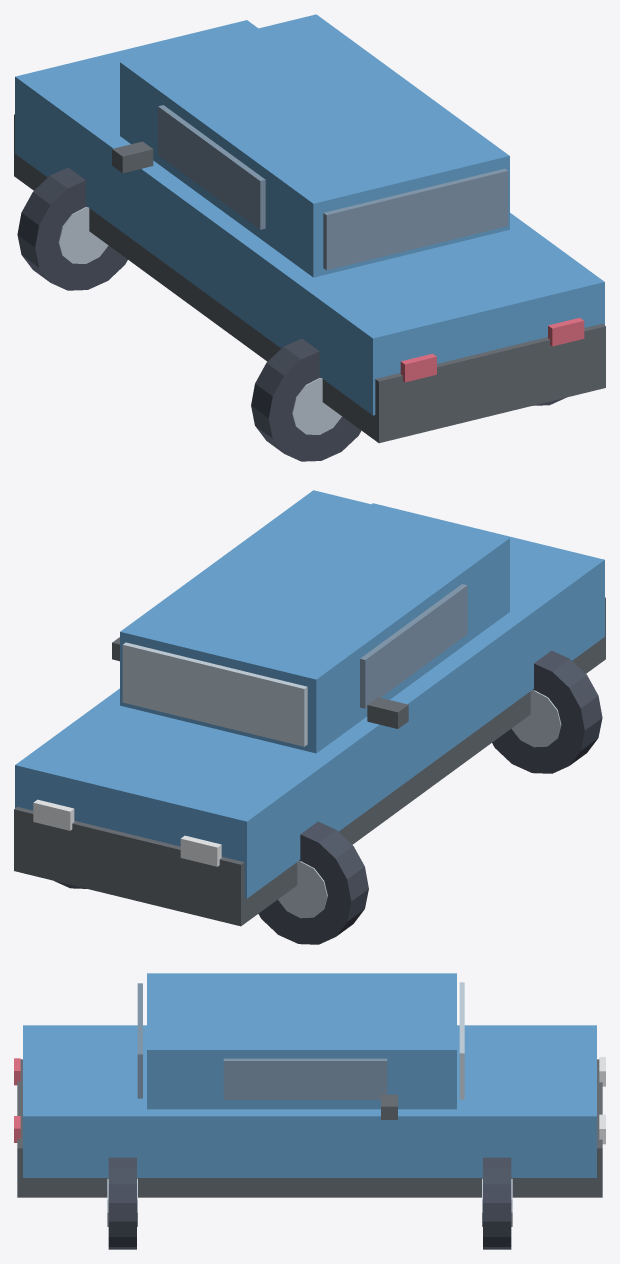
Rendered from furgoneta.glb.
The picture shows the model from 3 angles, top to bottom: view 1: azimuth 30°, elevation 25°; view 2: azimuth 150°, elevation 25°; view 3: azimuth 270°, elevation 25°; orthographic projection. The views are drawn at different scales.
Parts seen in each view (by area): view 1: Body_2, Cab_3, Chassis_1, RearWindow_5, Wheel_9, Wheel_7, SideGlass_6, Hubcap_8, Hubcap_10, SideMirror_11, TailLight_21, TailLight_13; view 2: Body_2, Cab_3, Chassis_1, Windshield_4, Wheel_7, Wheel_9, SideGlass_6, Hubcap_10, Hubcap_8, SideMirror_11, Headlight_12, Headlight_20; view 3: Body_2, Cab_3, Chassis_1, SideGlass_14, Wheel_15, Wheel_17, Windshield_4, RearWindow_5, SideMirror_19.
Part boxes in pixels (bbox=[...]): Body_2: bbox=[15, 20, 604, 415]; Cab_3: bbox=[120, 14, 509, 277]; Chassis_1: bbox=[14, 114, 605, 443]; RearWindow_5: bbox=[323, 168, 508, 270]; Wheel_9: bbox=[251, 338, 361, 461]; Wheel_7: bbox=[17, 167, 127, 290]; SideGlass_6: bbox=[158, 105, 265, 229]; Hubcap_8: bbox=[58, 207, 108, 263]; Hubcap_10: bbox=[292, 378, 341, 434]; SideMirror_11: bbox=[112, 141, 153, 173]; TailLight_21: bbox=[548, 317, 584, 346]; TailLight_13: bbox=[400, 353, 436, 382]; Body_2: bbox=[15, 503, 604, 898]; Cab_3: bbox=[120, 490, 509, 753]; Chassis_1: bbox=[14, 597, 605, 926]; Windshield_4: bbox=[122, 642, 307, 746]; Wheel_7: bbox=[258, 821, 368, 944]; Wheel_9: bbox=[492, 650, 602, 773]; SideGlass_6: bbox=[360, 584, 467, 708]; Hubcap_10: bbox=[511, 690, 561, 747]; Hubcap_8: bbox=[278, 861, 327, 918]; SideMirror_11: bbox=[367, 697, 408, 728]; Headlight_12: bbox=[180, 835, 221, 866]; Headlight_20: bbox=[33, 799, 74, 830]; Body_2: bbox=[23, 1025, 596, 1177]; Cab_3: bbox=[147, 973, 456, 1109]; Chassis_1: bbox=[17, 1059, 602, 1197]; SideGlass_14: bbox=[223, 1058, 387, 1099]; Wheel_15: bbox=[483, 1157, 511, 1249]; Wheel_17: bbox=[108, 1157, 136, 1249]; Windshield_4: bbox=[459, 982, 464, 1099]; RearWindow_5: bbox=[137, 983, 142, 1098]; SideMirror_19: bbox=[381, 1094, 397, 1119].
Size of the model in its own units: 2.72 by 1.84 by 5.21.
